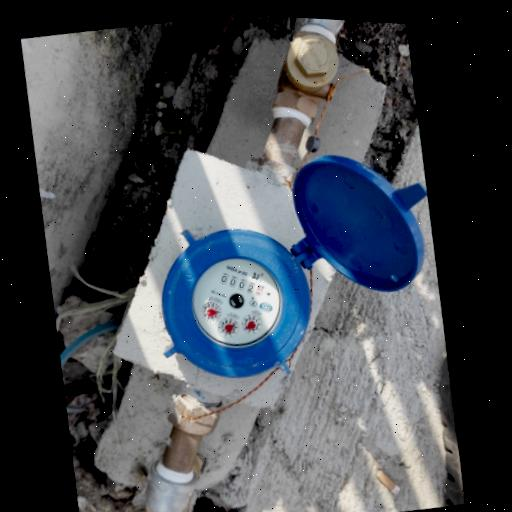0: (252, 282, 267, 299), (216, 271, 230, 286), (226, 274, 239, 289), (235, 277, 248, 292)
2: (244, 279, 258, 296)
border_water_meter_number: (213, 263, 270, 307)
